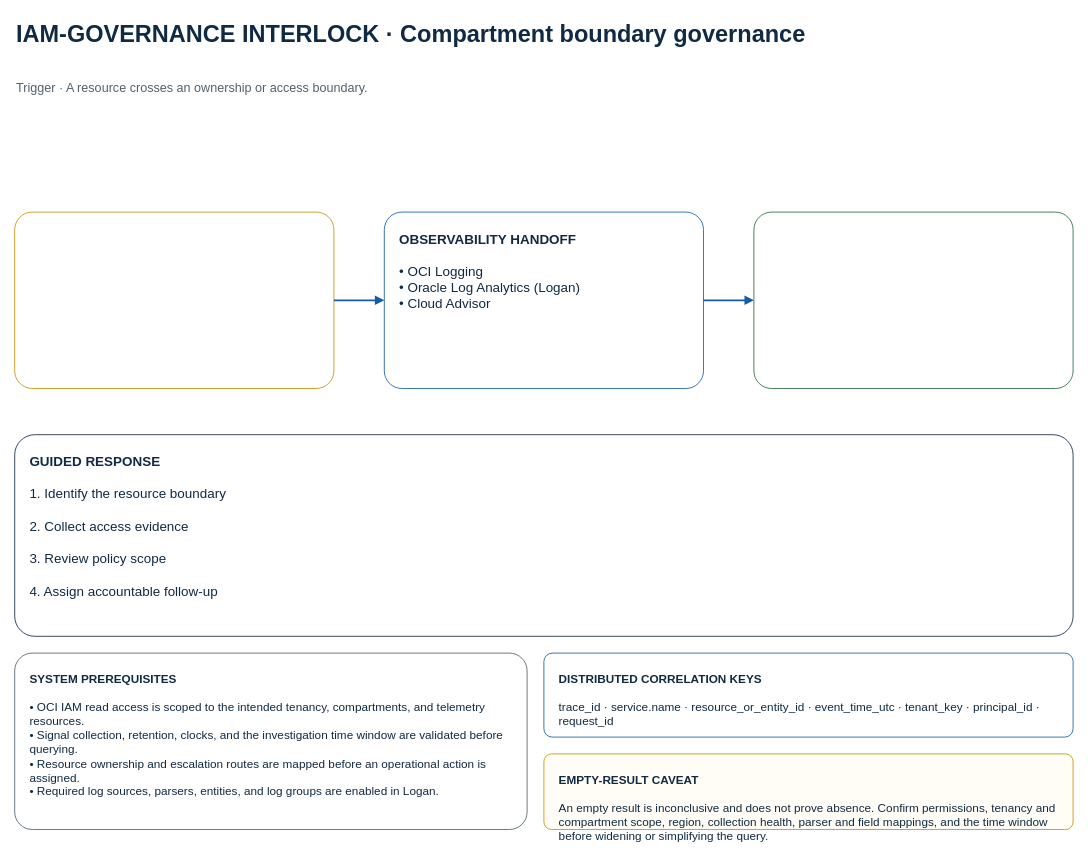
The diagram is 1088 pixels wide and 858 high, and some of its shapes have lost their labels. The shapes that lost their labels are listed below. From the top down, each one's centre as x and y in pixels, then its label:
At (174,299): "SOURCE EVIDENCE • Compartment structure • IAM policy context • Audit activity".
At (913,299): "OPERATIONAL OUTCOME • Clarify ownership, policy scope, and governance action.".
